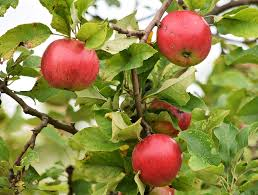apple: (158, 11, 212, 67), (41, 39, 99, 91), (131, 134, 182, 187)
